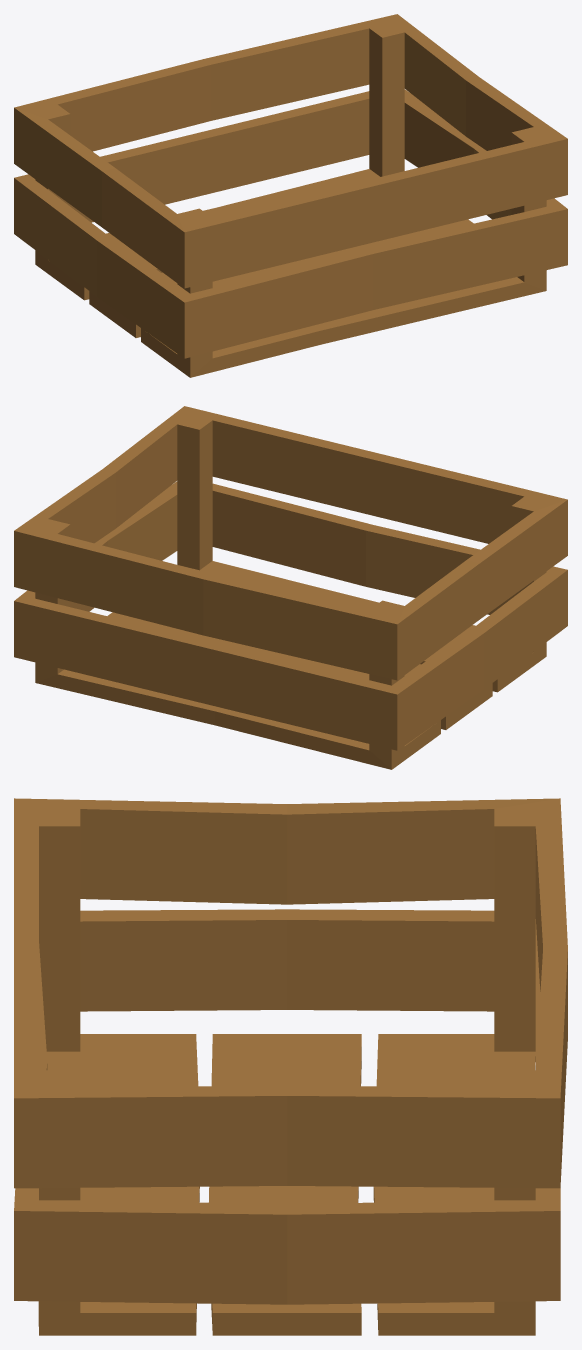
The model's file is egypt-crate.fbx.
3 renders of one model, top to bottom at view 1: azimuth 30°, elevation 25°; view 2: azimuth 150°, elevation 25°; view 3: azimuth 270°, elevation 25°, orthographic. The views are drawn at different scales.
Parts seen in each view (by area): view 1: egypt-crate; view 2: egypt-crate; view 3: egypt-crate.
Part boxes in pixels (bbox=[...]): egypt-crate: bbox=[14, 14, 567, 377]; egypt-crate: bbox=[14, 406, 567, 769]; egypt-crate: bbox=[14, 798, 567, 1335].
Bounding box in the file's own units: 0.8725 × 0.33 × 0.6692.
